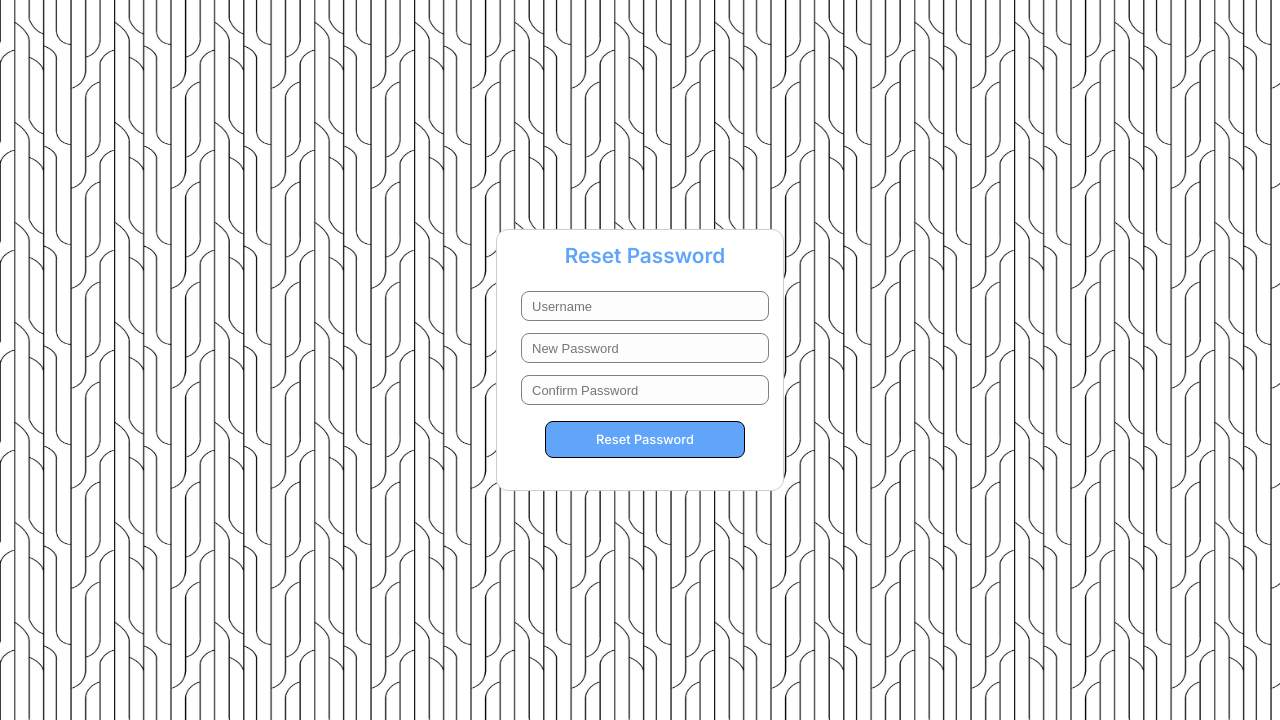
it: ResetPassword frontend tests › shows password length validation message for short passwords
Step 1. Type "testuser" into the field with placeholder "Username" → (645, 306), box 521,291 -> 769,321
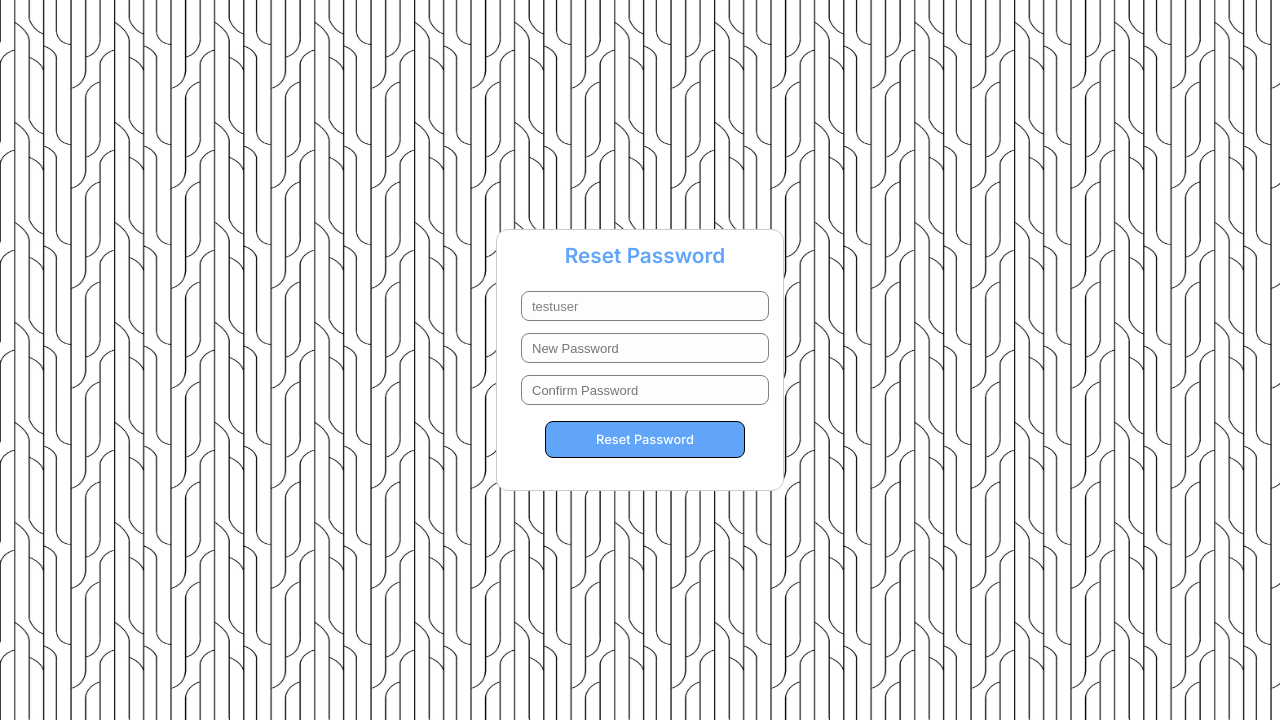
Step 2. Type "short1" into the password field with placeholder "New Password" → (645, 348), box 521,333 -> 769,363
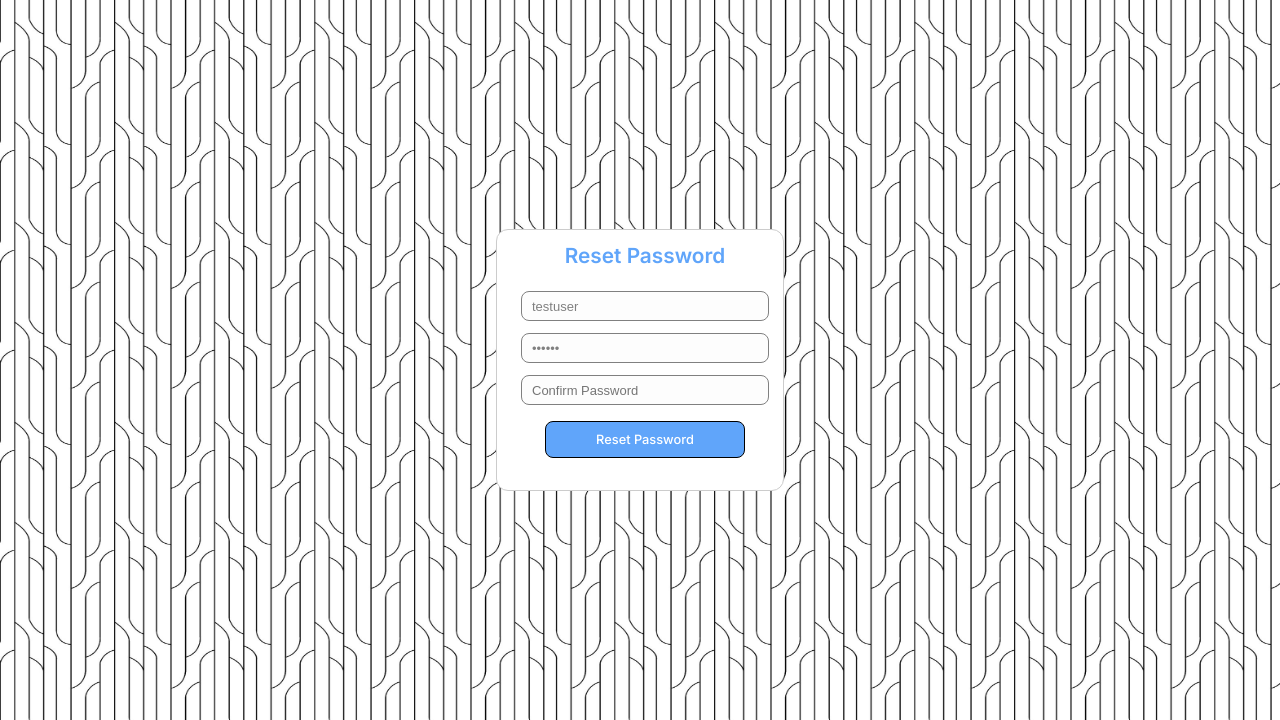
Step 3. Type "short1" into the password field with placeholder "Confirm Password" → (645, 390), box 521,375 -> 769,405
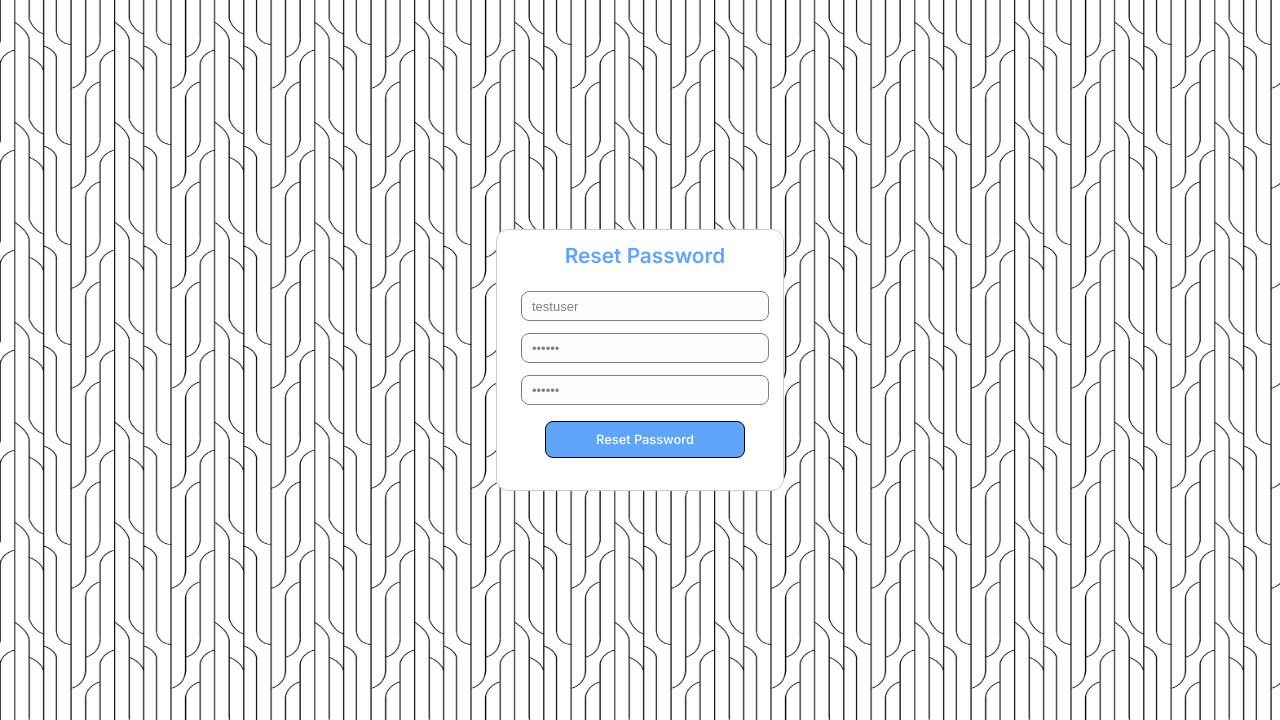
Step 4. Click the button "Reset Password" → (645, 440), box 545,421 -> 745,458
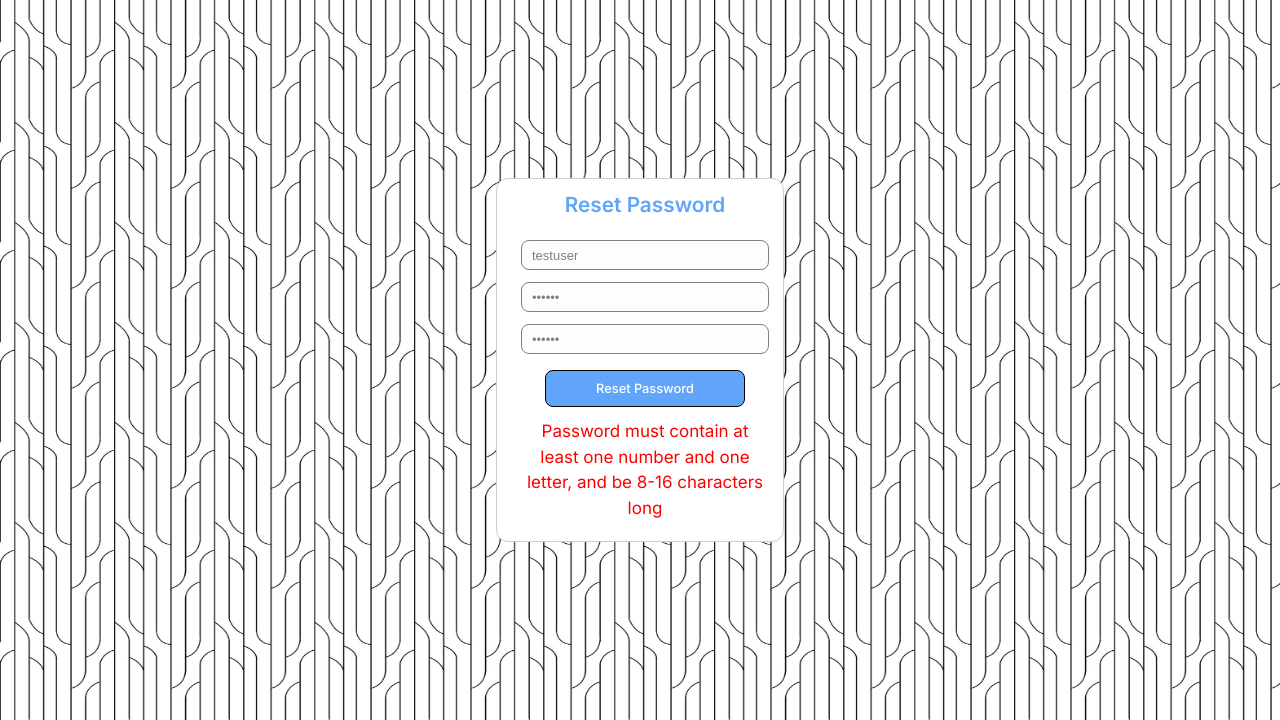
Result: the text "Password must contain at least one number and one letter, and be 8-16 characters long" is shown at 527,421 -> 763,518
